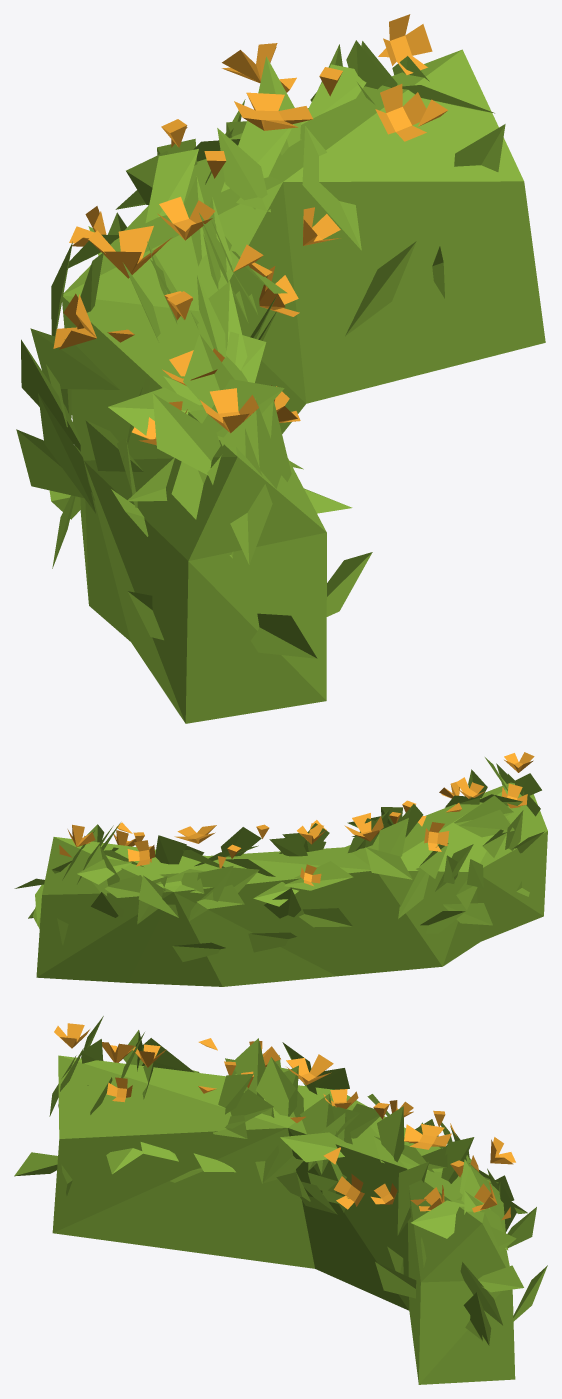
Rendered from SM_Fence_Hedge_City_Short_Flower_Corner_1m.fbx.
The picture shows the model from 3 angles, top to bottom: view 1: azimuth 30°, elevation 25°; view 2: azimuth 150°, elevation 25°; view 3: azimuth 270°, elevation 25°; orthographic projection. The views are drawn at different scales.
Visible parts, largest first — view 1: SM_Fence_Hedge_City_Short_Flower_Corner_1m; view 2: SM_Fence_Hedge_City_Short_Flower_Corner_1m; view 3: SM_Fence_Hedge_City_Short_Flower_Corner_1m.
Part boxes in pixels (bbox=[...]): SM_Fence_Hedge_City_Short_Flower_Corner_1m: bbox=[16, 14, 545, 723]; SM_Fence_Hedge_City_Short_Flower_Corner_1m: bbox=[14, 752, 547, 986]; SM_Fence_Hedge_City_Short_Flower_Corner_1m: bbox=[14, 1016, 547, 1384].
Bounding box in the file's own units: 1.23 × 0.5414 × 1.36.
